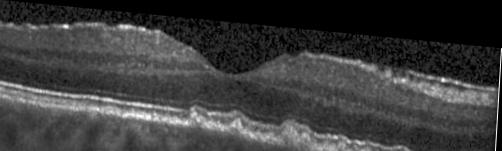retinal_drusen: (283, 125, 299, 140), (190, 111, 206, 124), (392, 143, 418, 151), (359, 139, 376, 151), (301, 129, 314, 143), (339, 138, 349, 150), (231, 117, 240, 129), (322, 137, 330, 147)
